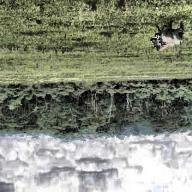boar: (142, 27, 182, 57)
